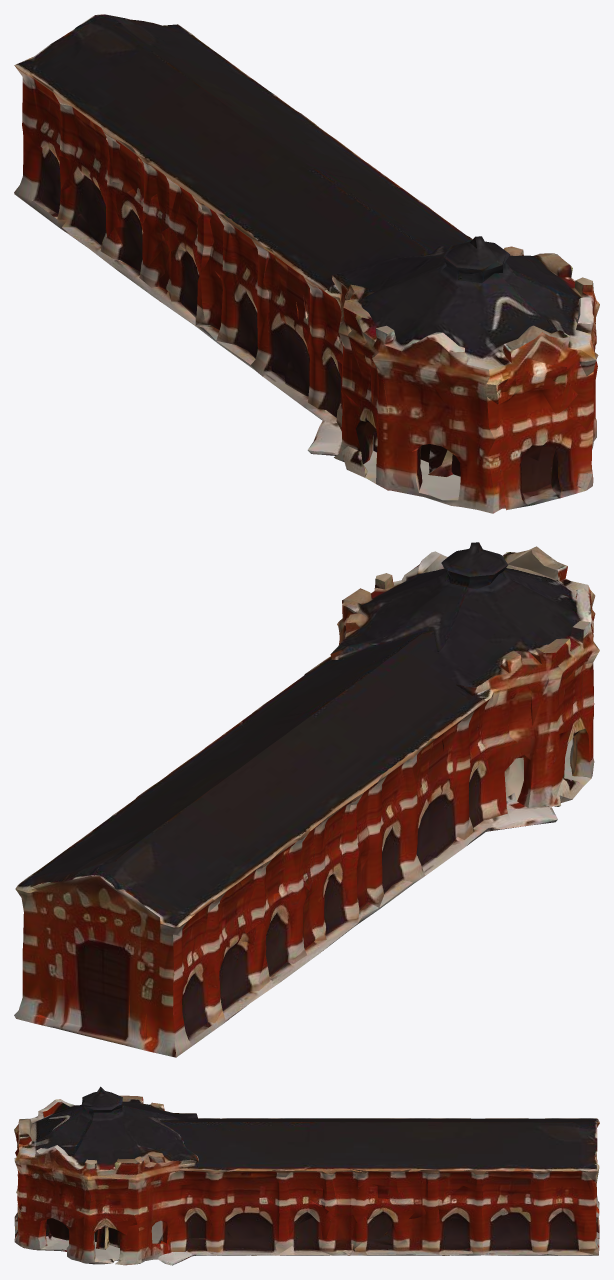
The model's file is red-house-taipei.glb.
3 renders of one model, top to bottom at view 1: azimuth 30°, elevation 25°; view 2: azimuth 150°, elevation 25°; view 3: azimuth 270°, elevation 25°, orthographic. The views are drawn at different scales.
Parts seen in each view (by area): view 1: logan-textured.obj; view 2: logan-textured.obj; view 3: logan-textured.obj.
Part boxes in pixels (box(x1,y1,x2,y2)): logan-textured.obj: box(14, 14, 599, 513); logan-textured.obj: box(14, 542, 599, 1057); logan-textured.obj: box(14, 1086, 599, 1265).
Bounding box in the file's own units: 0.3095 × 0.2698 × 1.
Materials: 1 (1 with a texture image).
